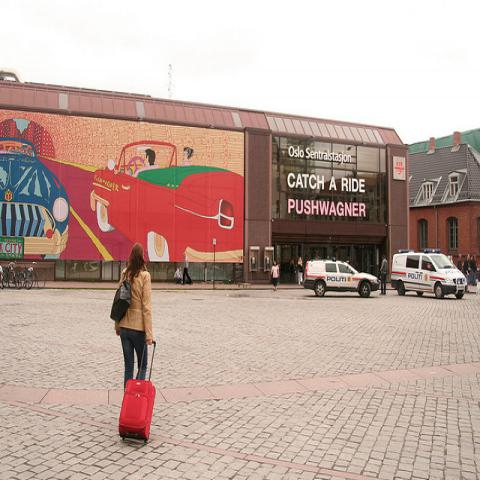car: (391, 250, 467, 300), (303, 257, 381, 299)
